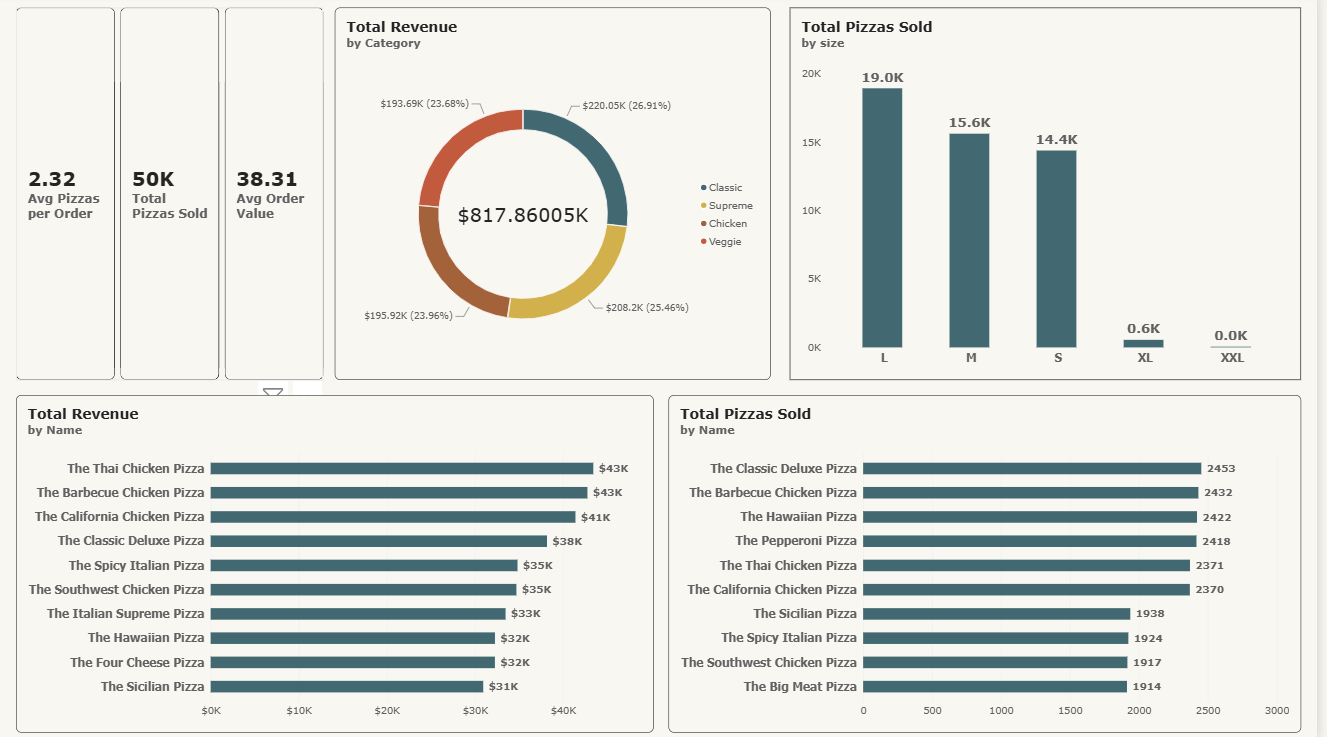

This screenshot's page, from the dashboard's own definition file:
{"tool":"powerbi","page":{"name":"Bestsellers","canvas":[1920,1080],"ordinal":1},"visuals":[{"type":"cardVisual","fields":{"Data":["Measure.Avg Pizzas per Order","Measure.Total Pizzas Sold","Measure.Avg Order Value"]},"box":[36.2,18.1,445.2,539.3],"z":0},{"type":"clusteredBarChart","fields":{"Category":["pizza_types.Name"],"Y":["Measure.Total Pizzas Sold"]},"box":[980.8,579.1,915.7,488.6],"z":1000},{"type":"clusteredBarChart","fields":{"Category":["pizza_types.Name"],"Y":["Measure.Total Revenue"]},"box":[36.2,579.1,922.9,488.6],"z":2000},{"type":"donutChart","fields":{"Category":["pizza_types.Category"],"Y":["Measure.Total Revenue"]},"box":[497.7,18.1,631.6,539.3],"z":3000},{"type":"columnChart","fields":{"Category":["pizzas.size"],"Y":["Measure.Total Pizzas Sold"]},"box":[1156.4,18.1,740.2,539.3],"z":4000}]}

Visuals, with their boxes in screenshot pixels (x1, y1, x2, y2), scaled from the page's 1920x1080 canvas onto the 1327x737 screenshot:
cardVisual - Measure.Avg Pizzas per Order x Measure.Total Pizzas Sold: select_region(25, 12, 333, 380)
clusteredBarChart - pizza_types.Name x Measure.Total Pizzas Sold: select_region(678, 395, 1311, 729)
clusteredBarChart - pizza_types.Name x Measure.Total Revenue: select_region(25, 395, 663, 729)
donutChart - pizza_types.Category x Measure.Total Revenue: select_region(344, 12, 781, 380)
columnChart - pizzas.size x Measure.Total Pizzas Sold: select_region(799, 12, 1311, 380)
